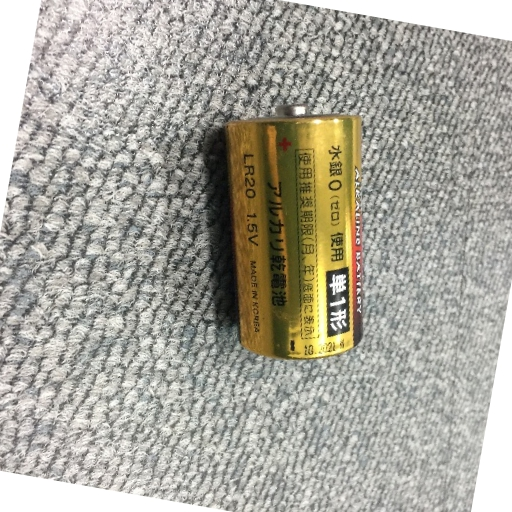Battery_0: (211, 95, 387, 371)
